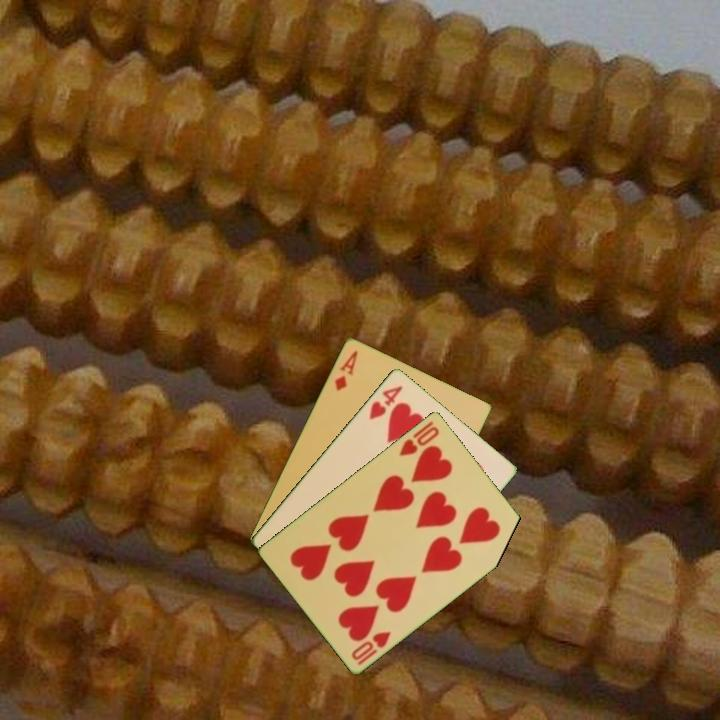10h: (395, 417, 442, 459), (348, 627, 394, 668)
4h: (365, 382, 406, 422)
Ad: (331, 346, 361, 394)
